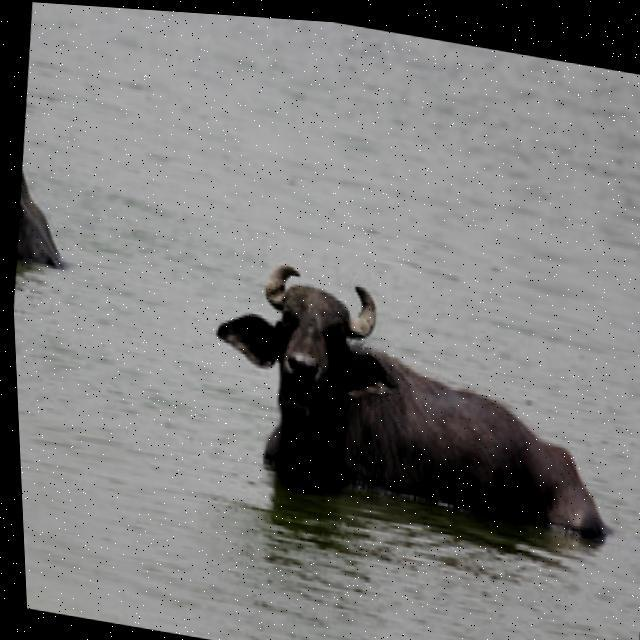Buffalo: (193, 244, 635, 550)
